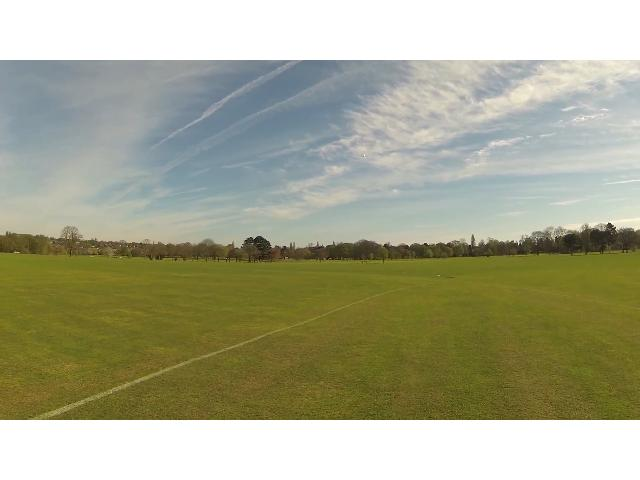Anti-Drone: (358, 152, 366, 163)
